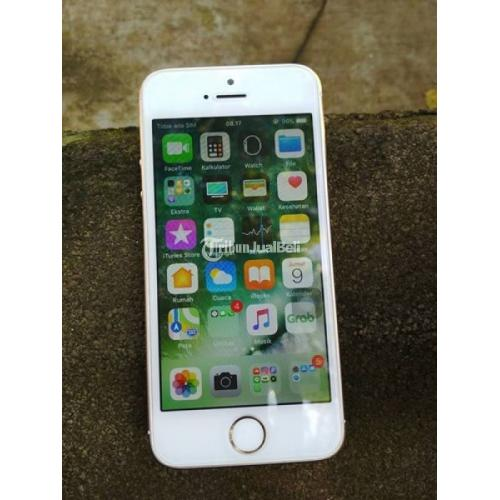Handphone: (135, 59, 353, 475)
